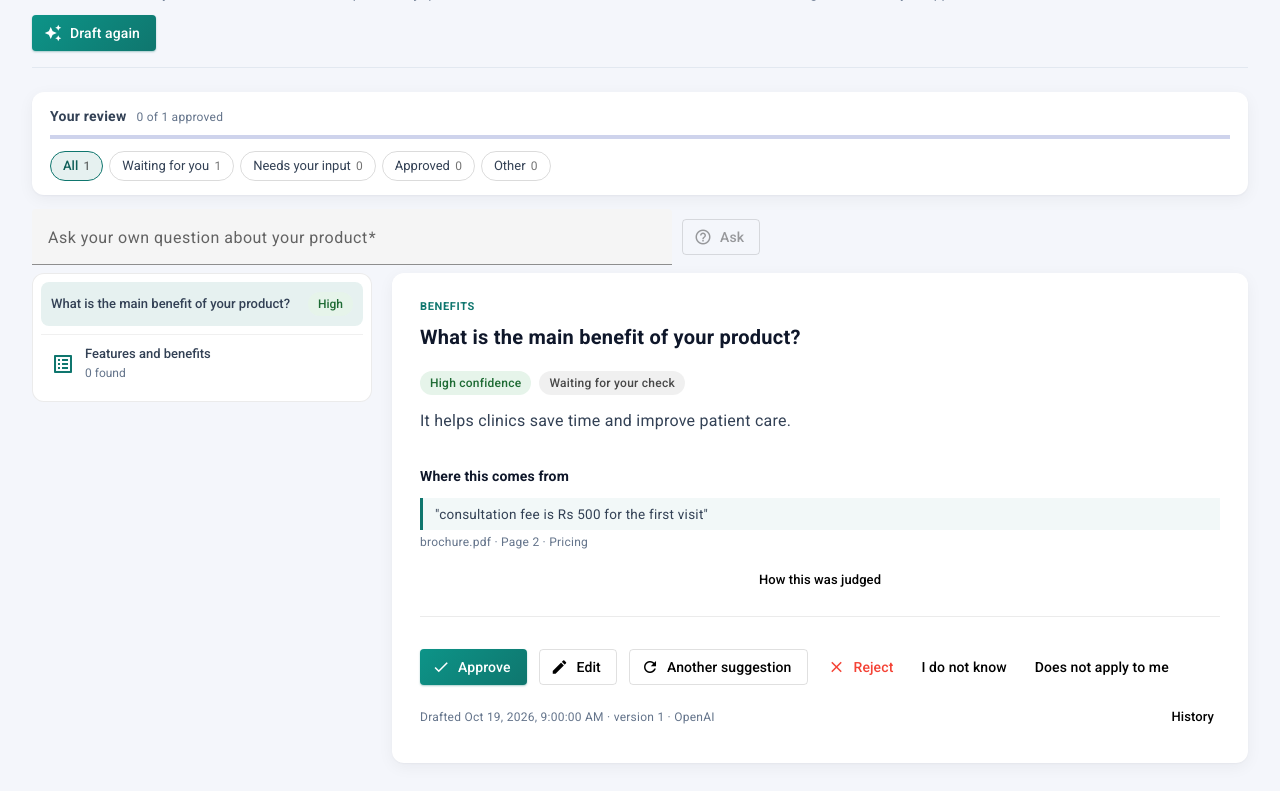
Scenario: ProductAnswersComponent › shows the history of a question: each step, who did it, when, and the text before and after
This screenshot has width=1280, height=791.
(page scrolled)
Click the button "History" at (1193, 717), box [1165, 699, 1220, 735]
(page scrolled)
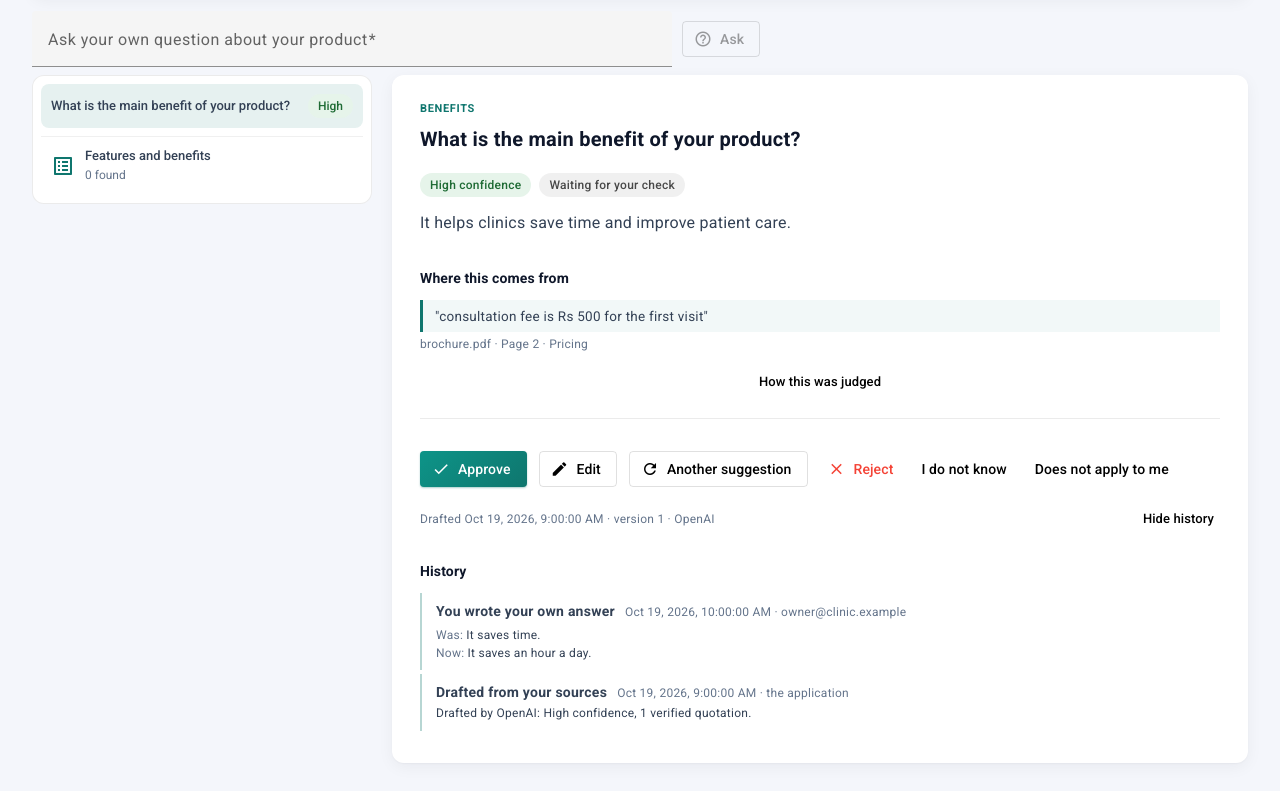
Now the list item that starts with "You wrote your own answer" is shown, box [436, 603, 615, 619]
Now the list item that starts with "You wrote your own answer" shows "owner@clinic.example", box [625, 605, 906, 619]
Now the list item that starts with "You wrote your own answer" shows "Was: It saves time.", box [420, 593, 1220, 670]
